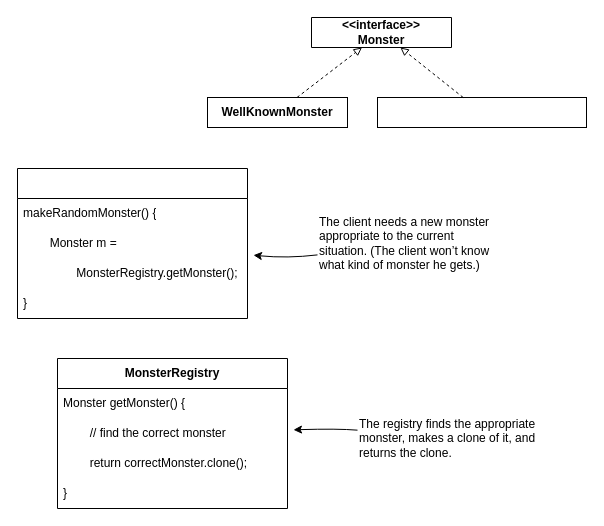
Some shapes in this 604 by 526 pixel diagram are drawn without their labels. Each missing label, with the box of its shape:
DynamicPlayerGeneratedMonster: (376, 96, 586, 128)
MonsterMaker: (16, 168, 248, 318)
